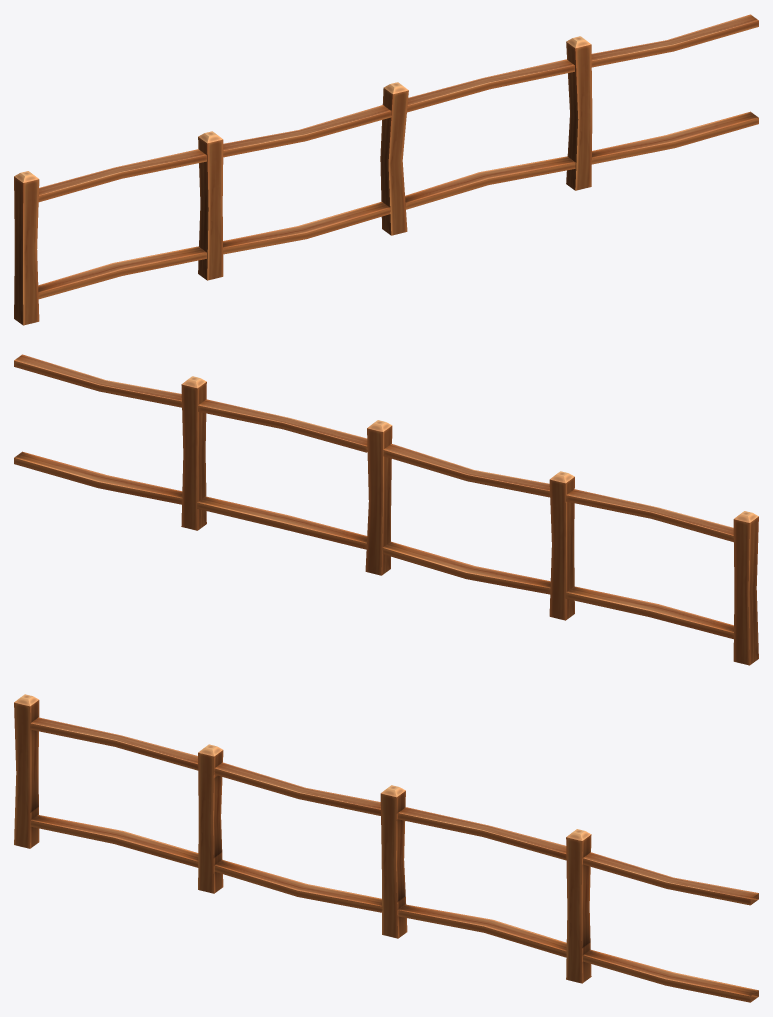
The model's file is Fences01_8.FBX.
The picture shows the model from 3 angles, top to bottom: view 1: azimuth 30°, elevation 25°; view 2: azimuth 150°, elevation 25°; view 3: azimuth 330°, elevation 25°; orthographic projection.
Parts seen in each view (by area): view 1: Fences01_8; view 2: Fences01_8; view 3: Fences01_8.
Part boxes in pixels (<box>): Fences01_8: <box>14,14,758,325</box>; Fences01_8: <box>14,354,758,665</box>; Fences01_8: <box>14,694,758,1002</box>.
Size of what is drawn, in the model's own units: 7.02 by 1.34 by 0.2143.
